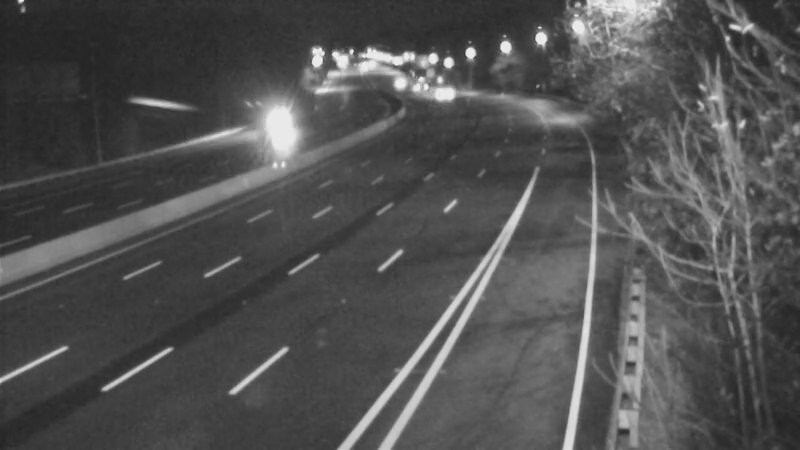vehicle: (373, 56, 423, 106), (389, 60, 439, 110), (417, 65, 467, 115), (253, 101, 303, 151)
